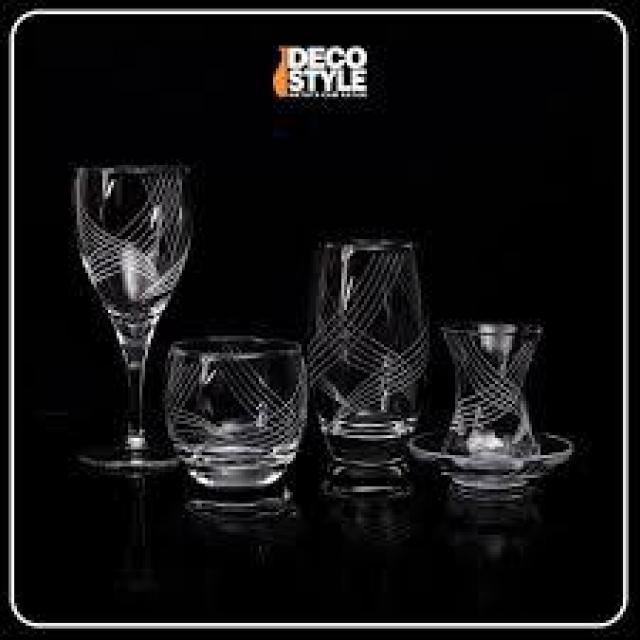non-organic waste: (78, 164, 195, 470), (411, 322, 573, 472), (310, 240, 430, 442), (166, 334, 306, 491)
